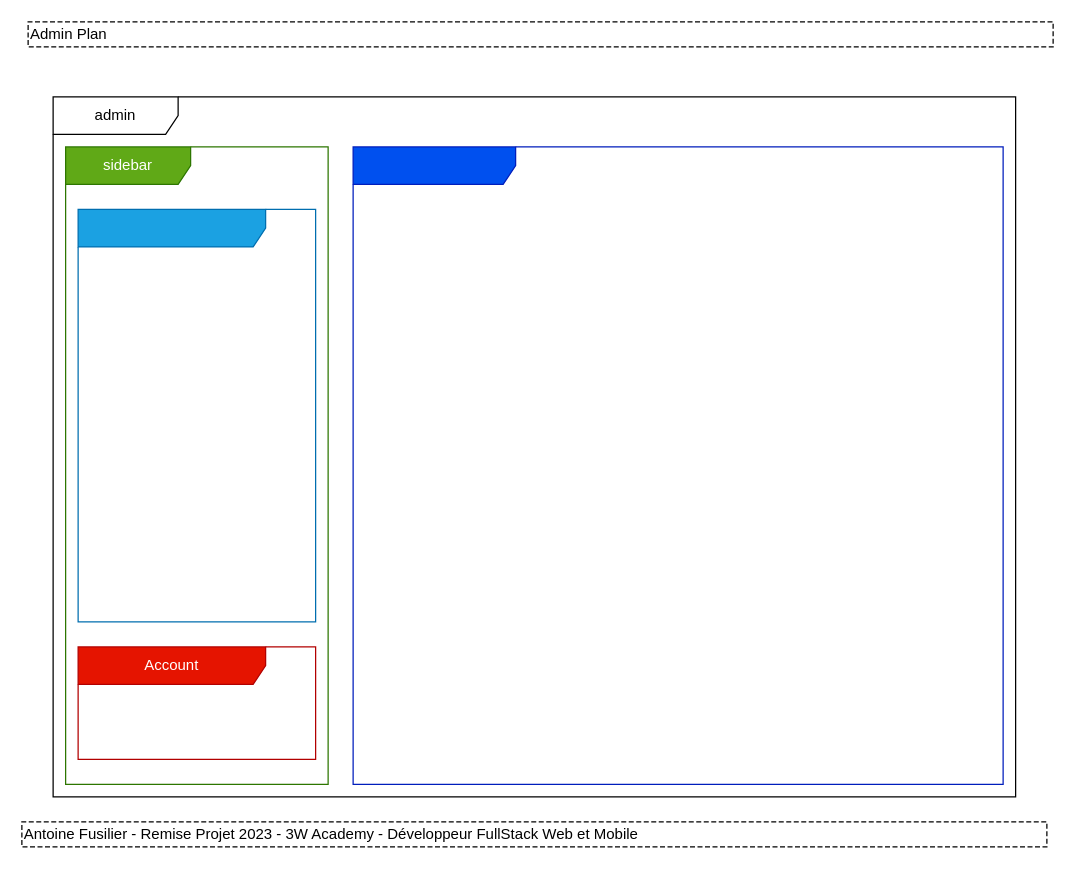
Image size: 1075x869. Some labels were removed from this diagram. The centre of each missing label's shape, as x and y in pixels:
Component Router: point (677, 465)
Components Links: point (196, 415)
